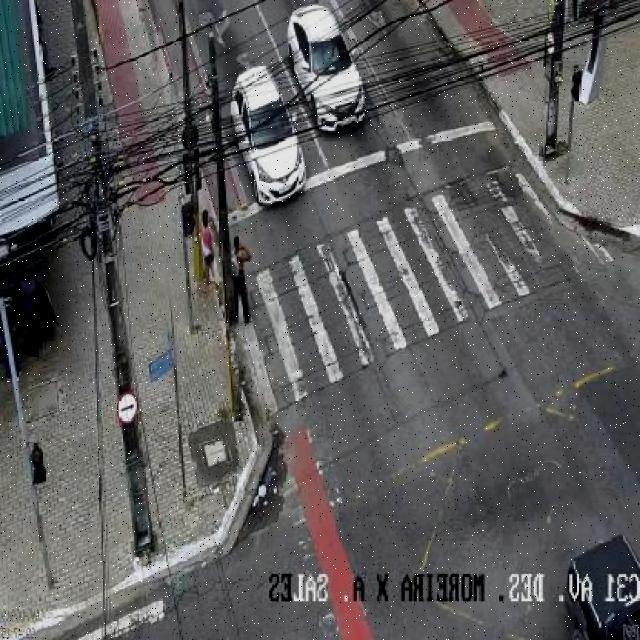Car: (228, 63, 310, 210), (286, 3, 368, 138)
